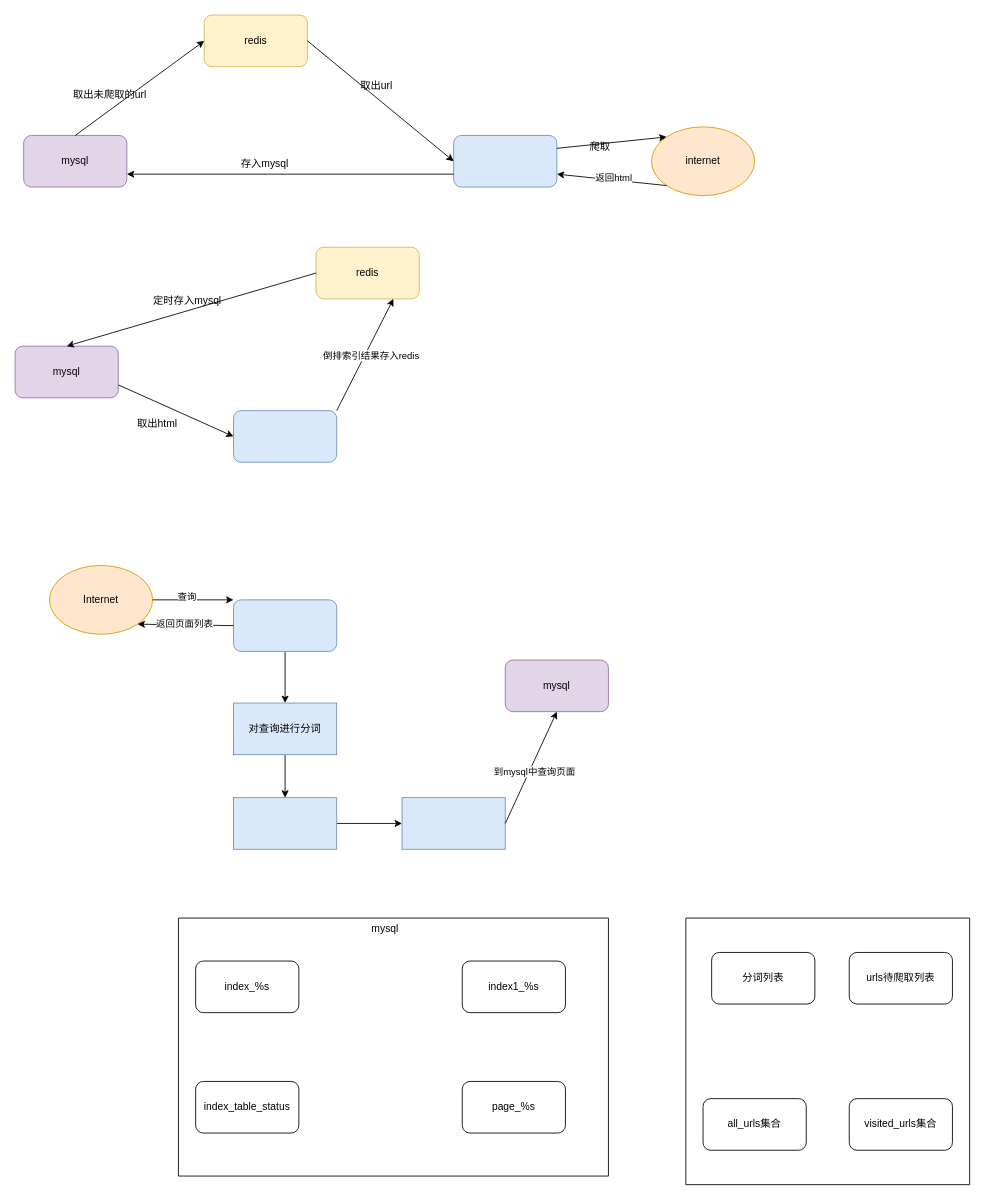
Some shapes in this 985 by 1200 pixel diagram are drawn without their labels. Each missing label, with the centre of its shape:
"oucsearcher" goes at pixel 285 625.
"spider" goes at pixel 505 161.
"分词器" goes at pixel 285 436.
"对每个词进行BM25计算" goes at pixel 285 823.
"将页面按照优先级进行排序" goes at pixel 453 823.
